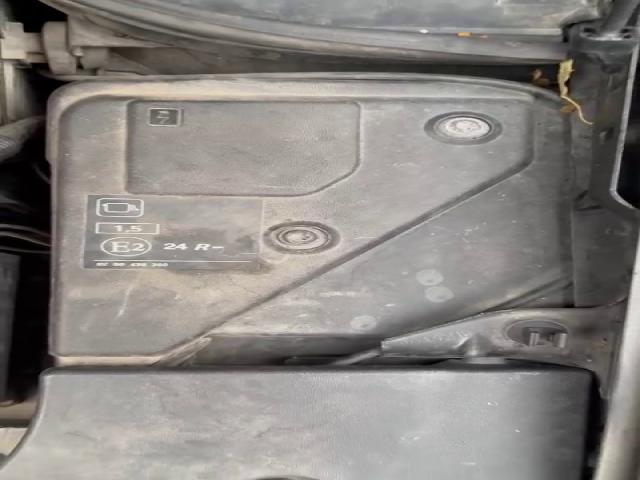fuse_box: (50, 96, 533, 356)
